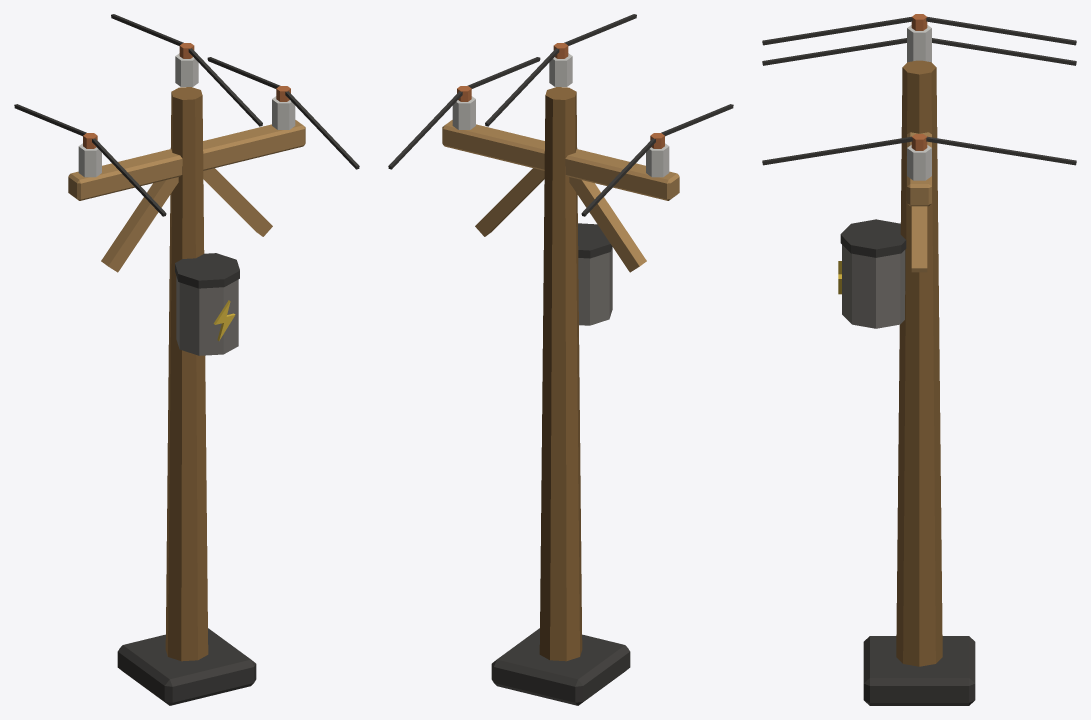
File: pole.fbx
The picture shows the model from 3 angles, left to right: view 1: azimuth 30°, elevation 25°; view 2: azimuth 150°, elevation 25°; view 3: azimuth 270°, elevation 25°; orthographic projection. The views are drawn at different scales.
Parts seen in each view (by area): view 1: pole; view 2: pole; view 3: pole.
Boxes of the visible parts, x1,y1,x2,y2 form: pole: [14, 14, 359, 705]; pole: [388, 14, 733, 705]; pole: [762, 14, 1076, 705].
Bounding box in the file's own units: 2.7 × 7.14 × 3.04.
